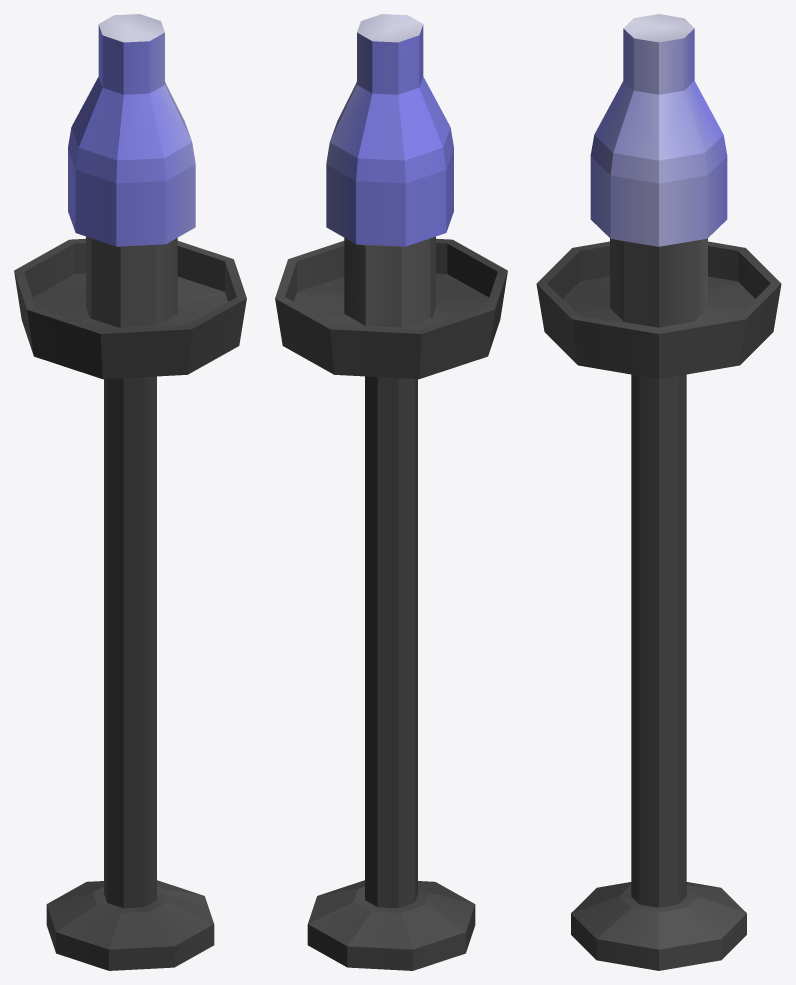
File: Candle_336x15.obj
3 renders of one model, left to right at view 1: azimuth 30°, elevation 25°; view 2: azimuth 150°, elevation 25°; view 3: azimuth 270°, elevation 25°, orthographic.
Parts seen in each view (by area): view 1: Candle_336x15; view 2: Candle_336x15; view 3: Candle_336x15.
Part boxes in pixels (left/top/right/bottom): Candle_336x15: left=14, top=14, right=246, bottom=970; Candle_336x15: left=275, top=14, right=507, bottom=970; Candle_336x15: left=536, top=14, right=781, bottom=970.
Bounding box in the file's own units: 0.3725 × 1.56 × 0.3821.
